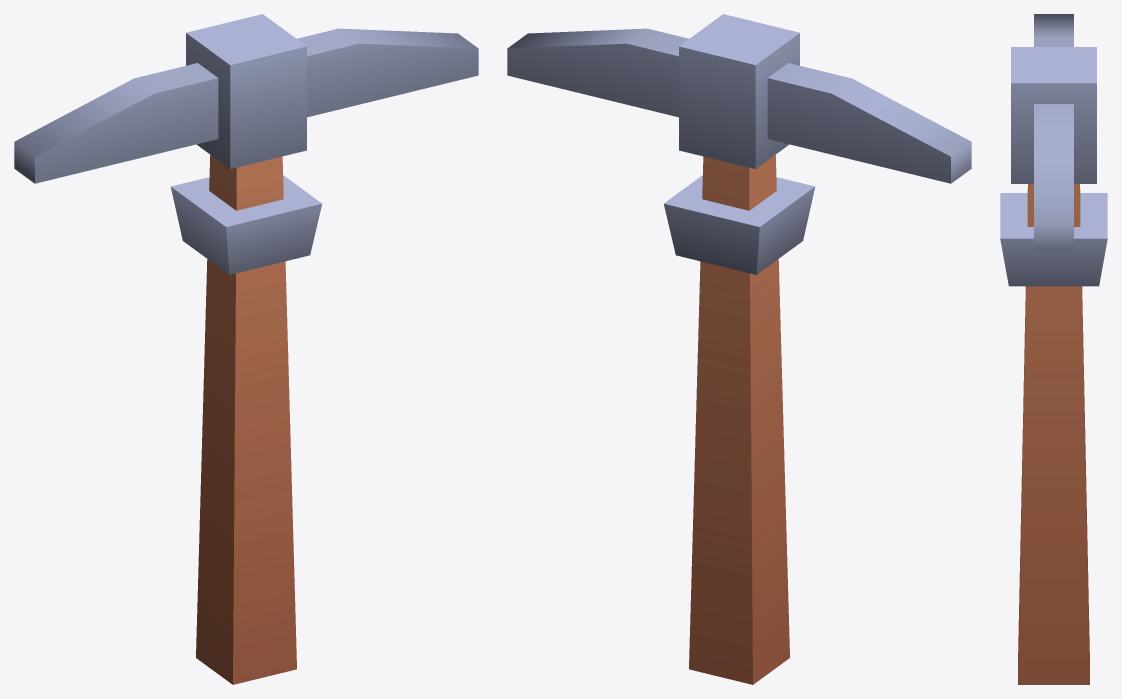
File: pickaxe.glb
3 renders of one model, left to right at view 1: azimuth 30°, elevation 25°; view 2: azimuth 150°, elevation 25°; view 3: azimuth 270°, elevation 25°, orthographic. The views are drawn at different scales.
Visible parts, largest first — view 1: tool-pickaxe; view 2: tool-pickaxe; view 3: tool-pickaxe.
Boxes of the visible parts, <box> form: tool-pickaxe: <box>14,14,478,684</box>; tool-pickaxe: <box>507,14,971,684</box>; tool-pickaxe: <box>1000,14,1107,684</box>.
Size of the model in its own units: 0.1786 by 0.24 by 0.0387.
1 material, 1 textured.
